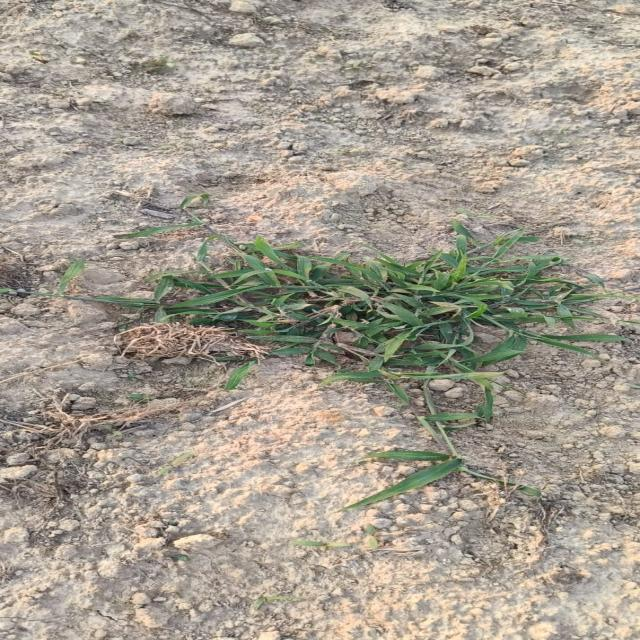plant: (131, 223, 627, 510)
